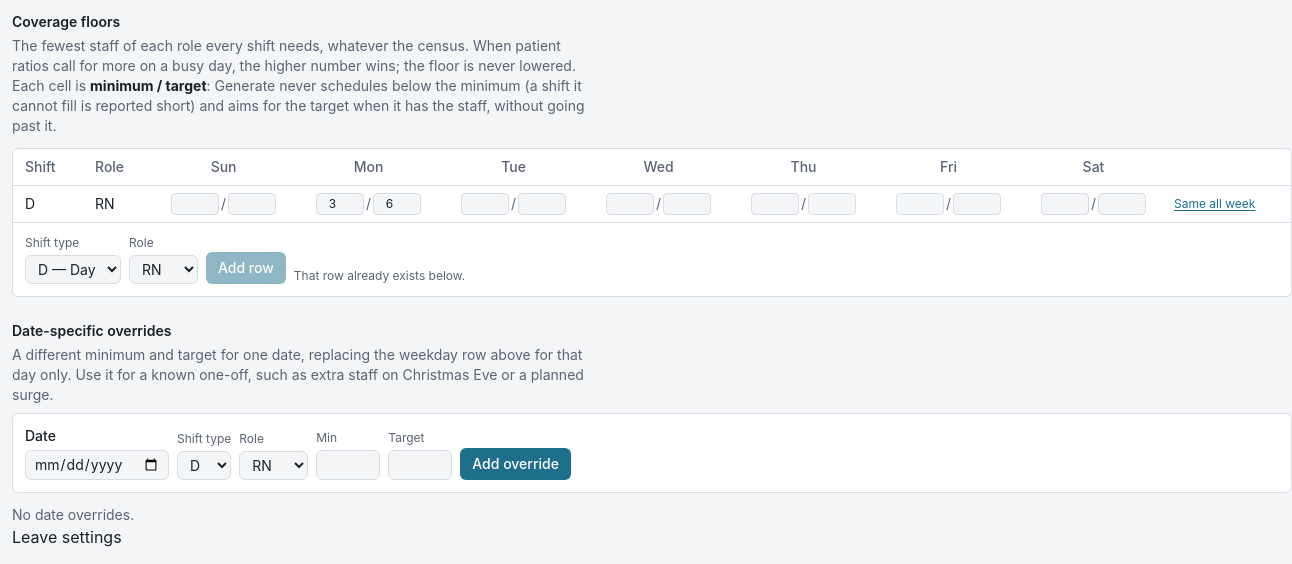
Test case: Settings › Coverage floors › says Copying while the week is being filled
Expected: the heading "Coverage floors" is shown, [12, 13, 120, 30]
Click the button "Same all week": (1215, 204) [1174, 196, 1255, 212]
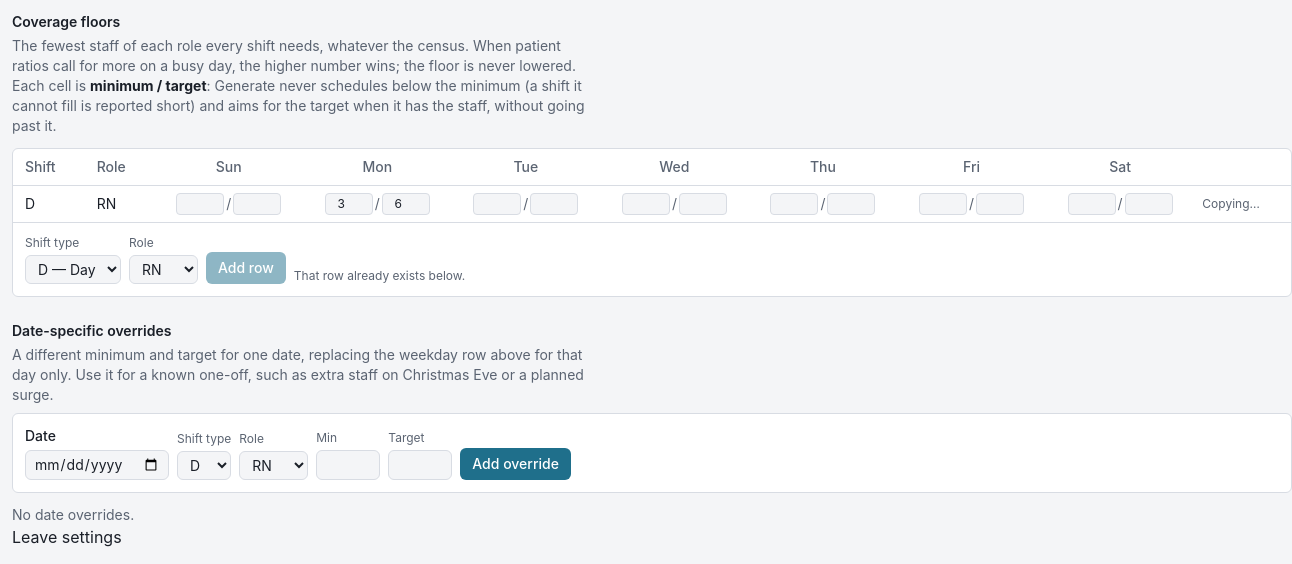
Expected: the button "Copying…" is shown, [1202, 196, 1260, 212]
